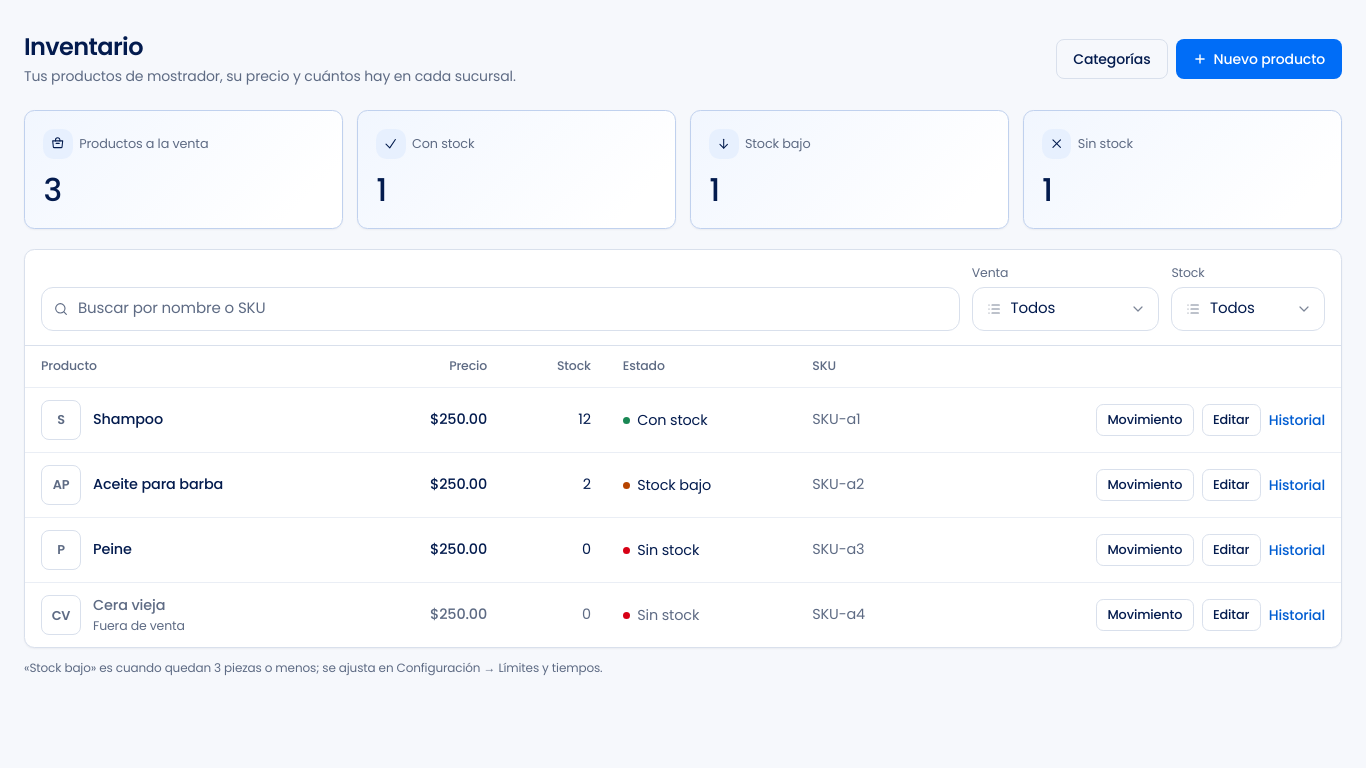
Test case: inventario › los errores al guardar quedan en el diálogo, junto a su campo
The width and height of the screenshot is (1366, 768).
Click the button "Nuevo producto": (1259, 59) [1176, 39, 1342, 79]
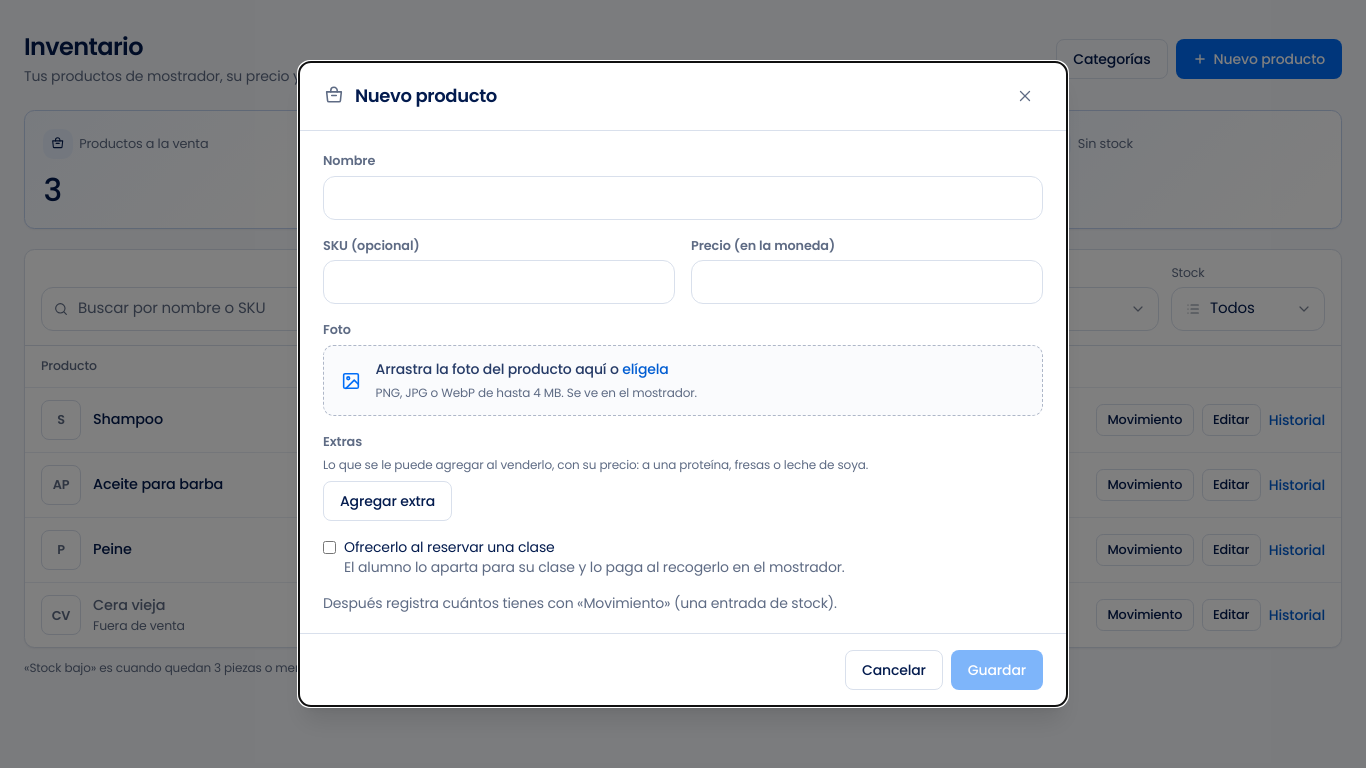
In the field with id "iv-nombre": (683, 198) [323, 176, 1043, 220], type "X"
In the number field with id "iv-precio": (867, 282) [691, 260, 1043, 304], type "10"
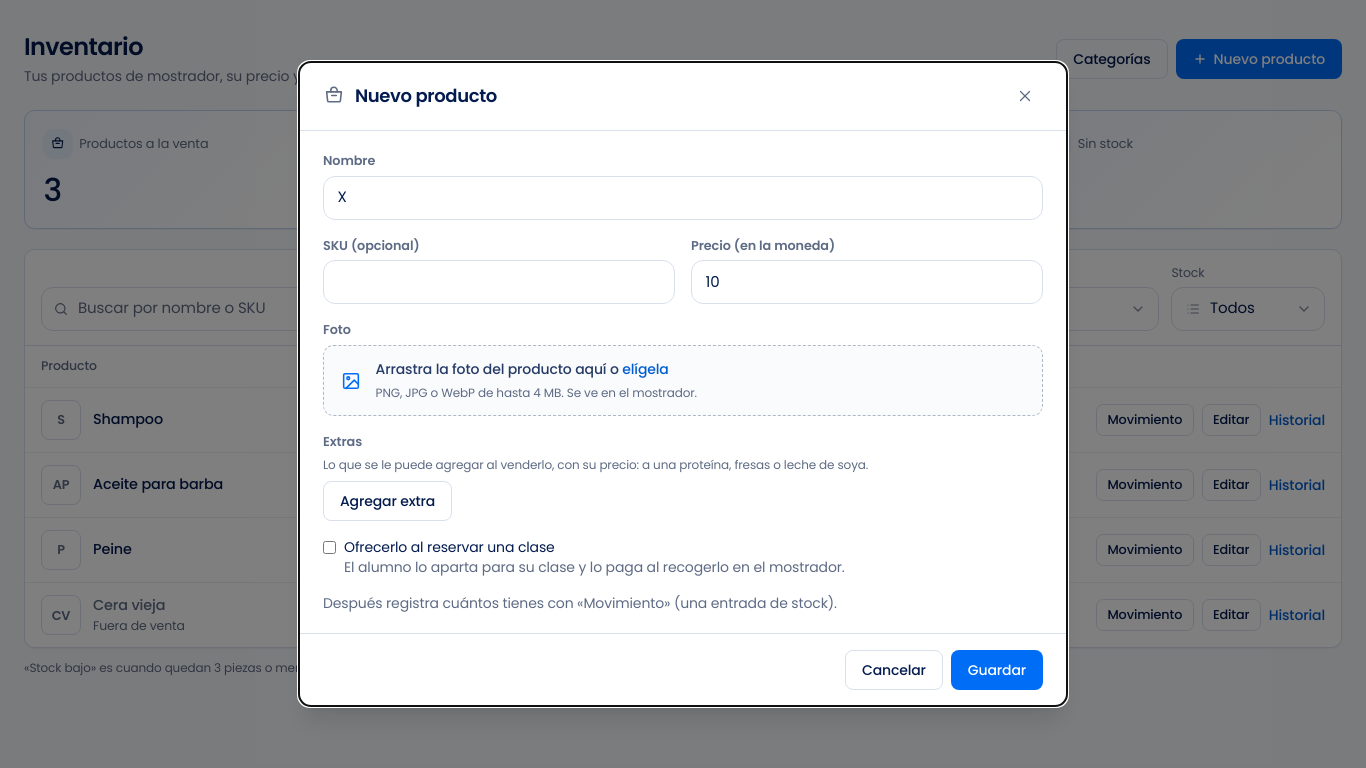
Click the button "Agregar extra": (388, 501) [323, 481, 452, 521]
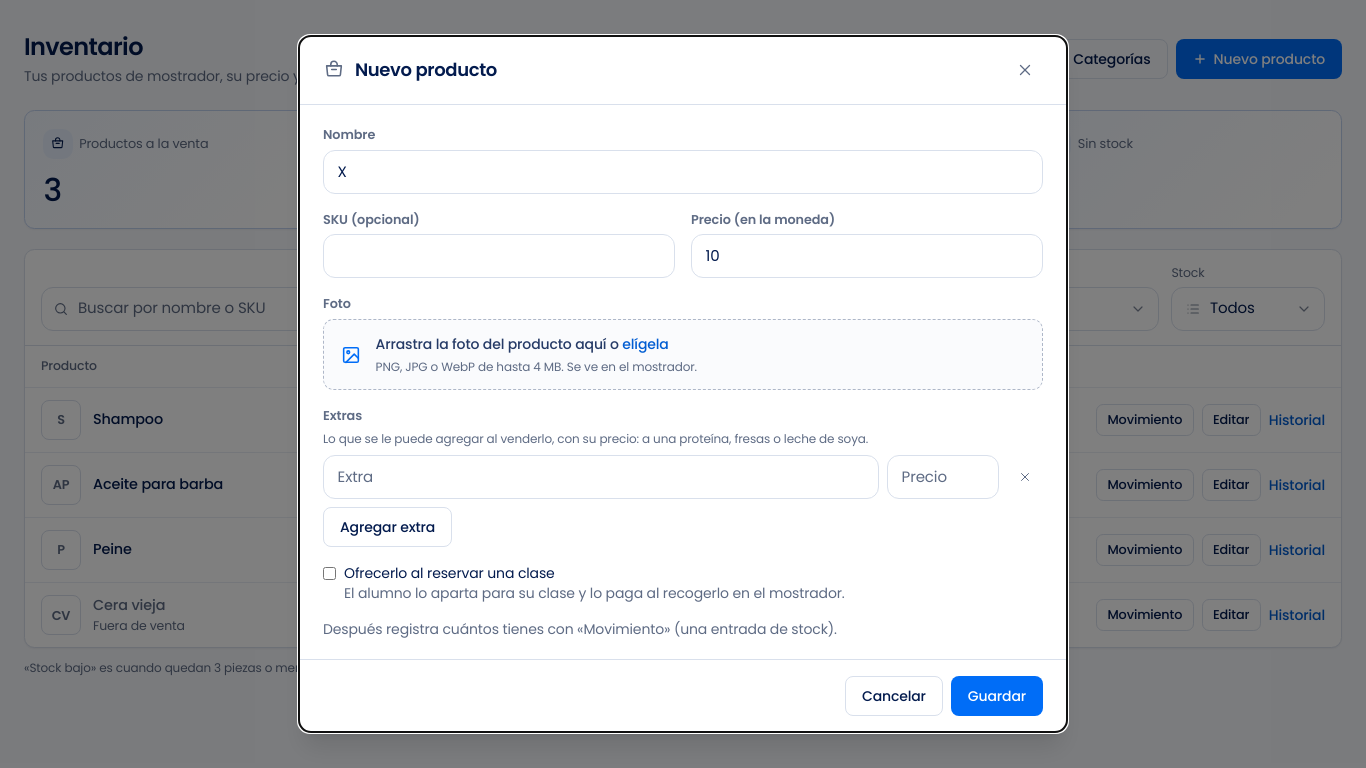
Click the button "Agregar extra": (388, 527) [323, 507, 452, 547]
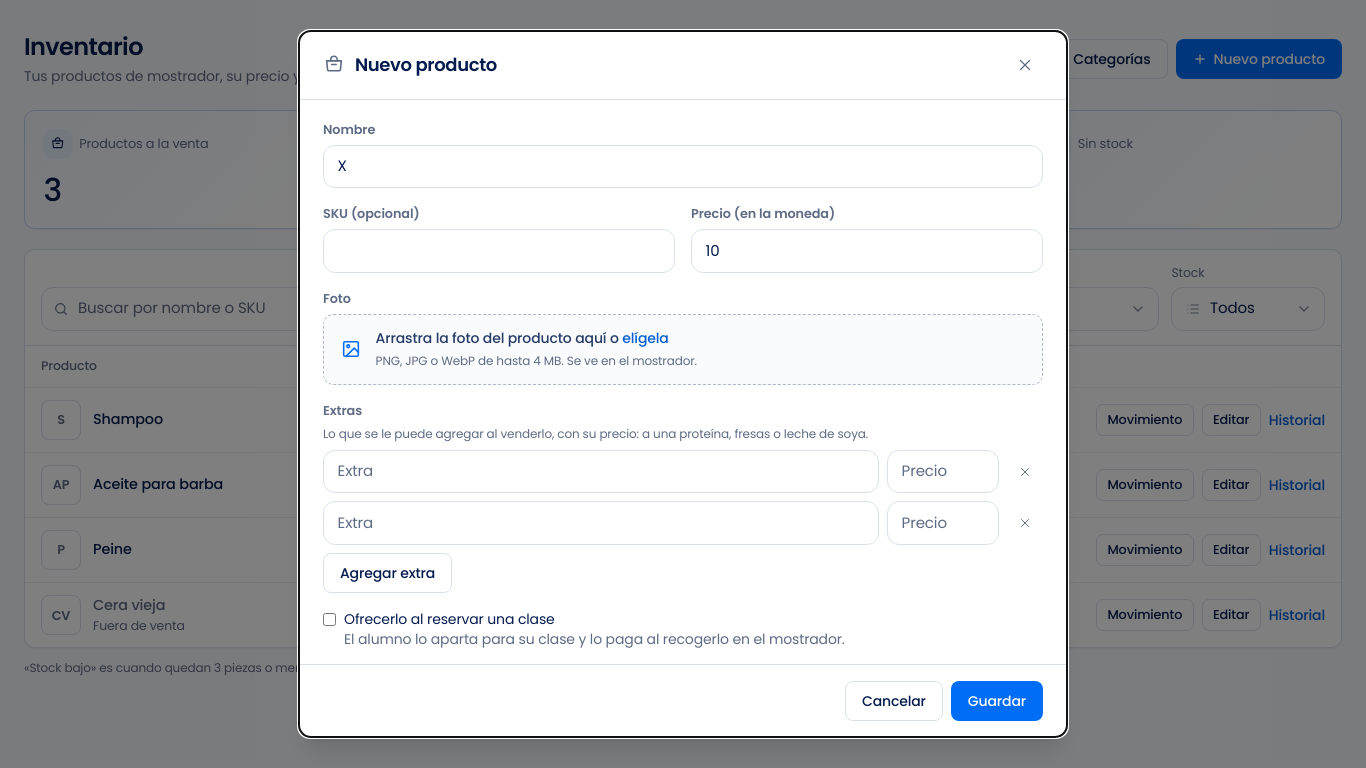
In the 2nd field with placeholder "Extra": (601, 523) [323, 501, 879, 545], type "Fresas"
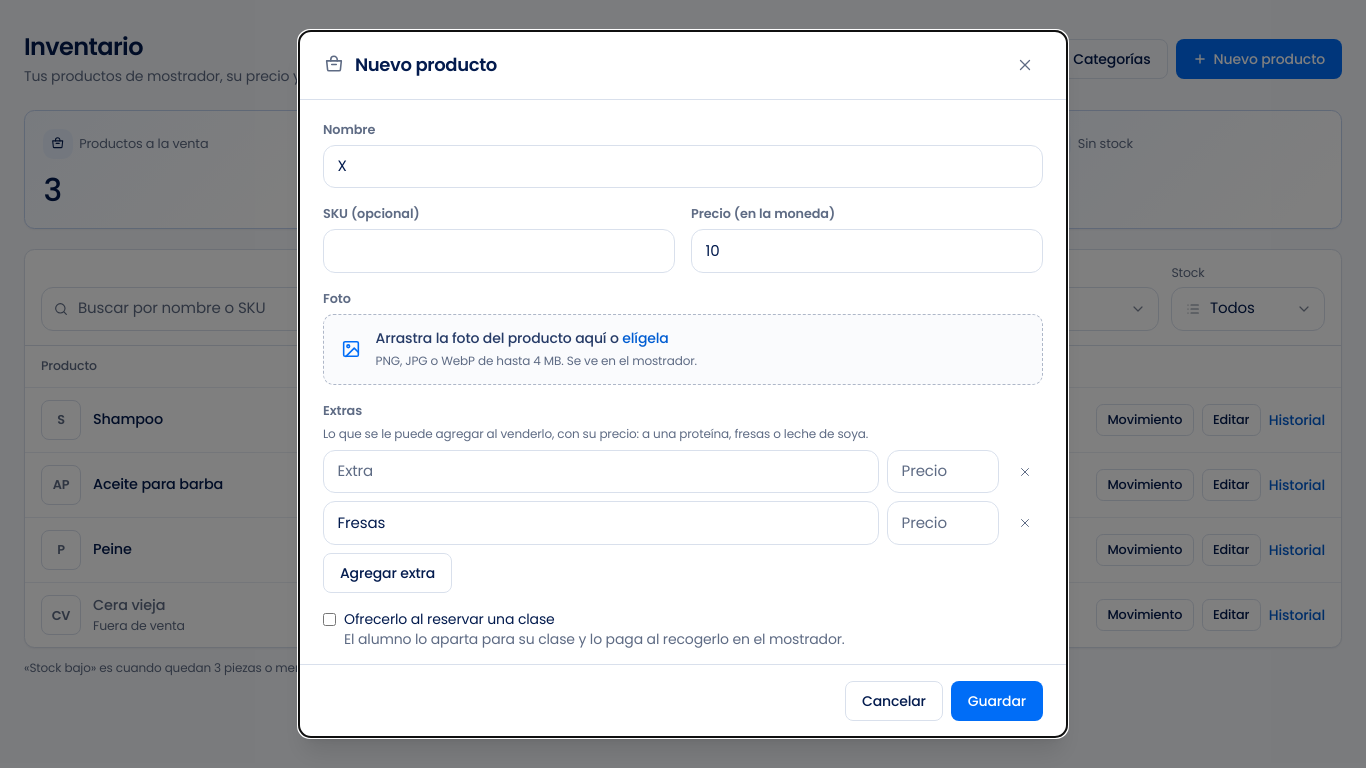
Submit the form with id "iv-producto", box [323, 120, 1043, 685]
(page scrolled)
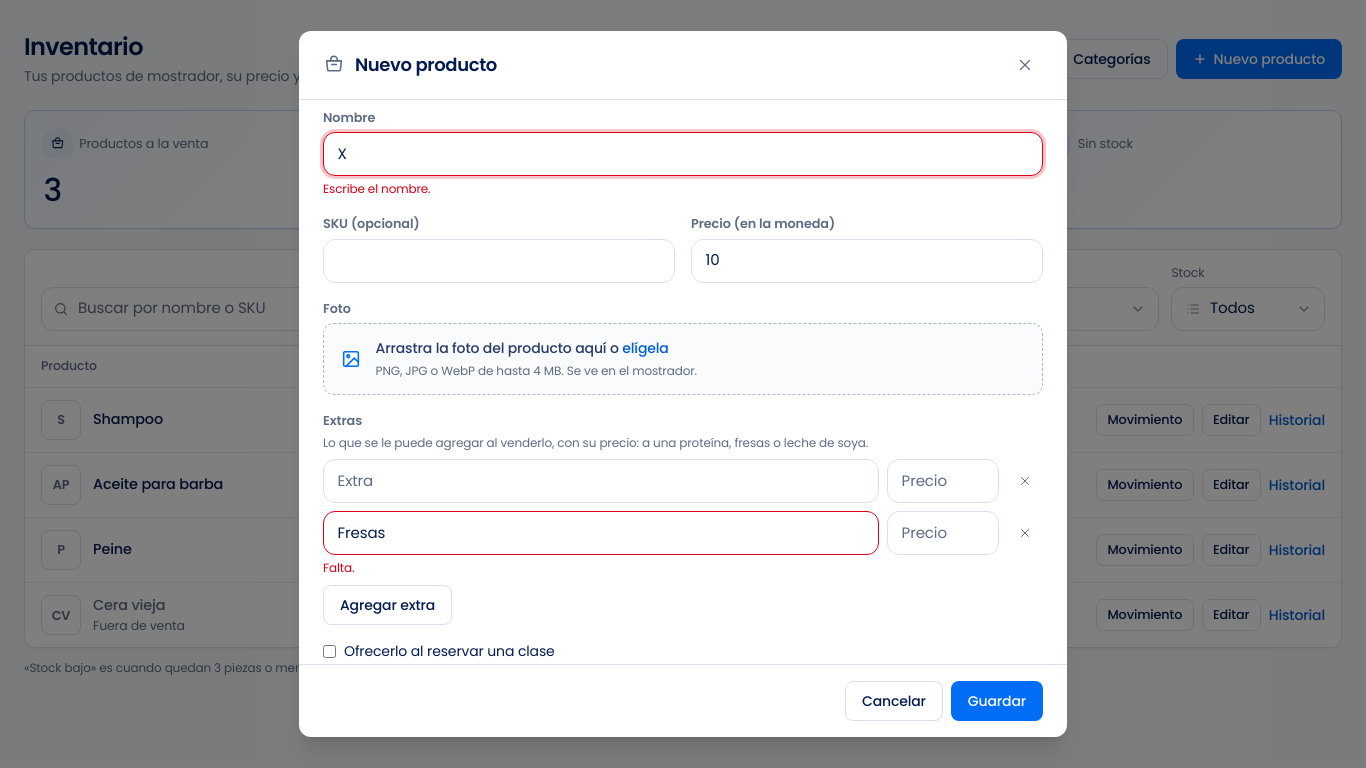
Expected: the form with id "iv-producto" is shown, [323, 100, 1043, 664]
Expected: the text "Escribe el nombre." is shown, [323, 180, 430, 197]
